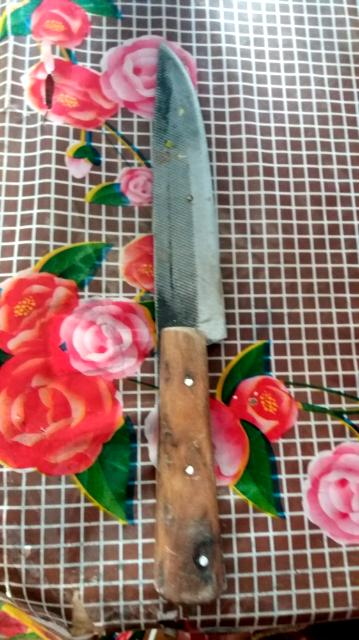Knife: (153, 45, 226, 602)
